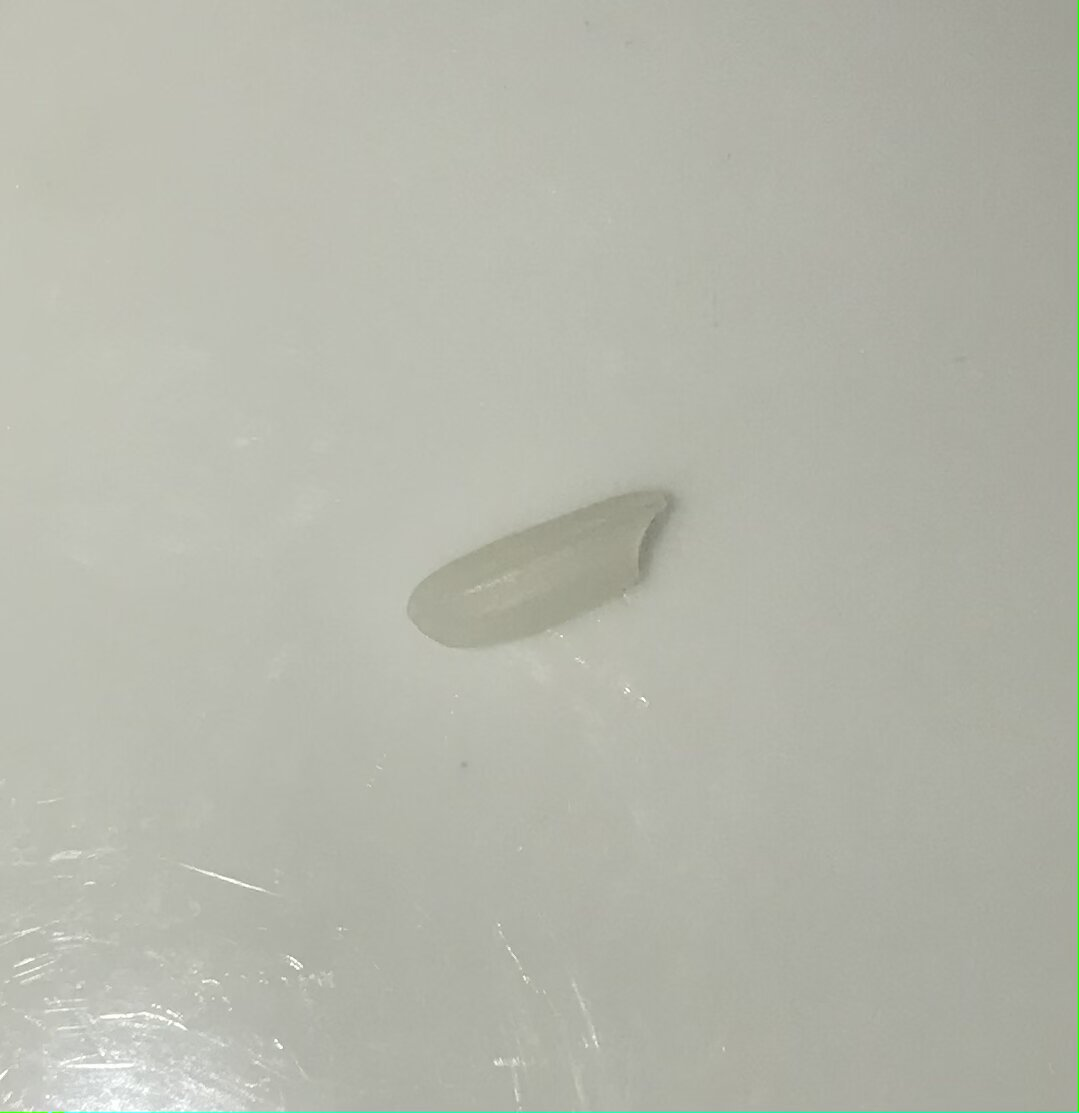Gao Lai Sua: (407, 481, 682, 654)
